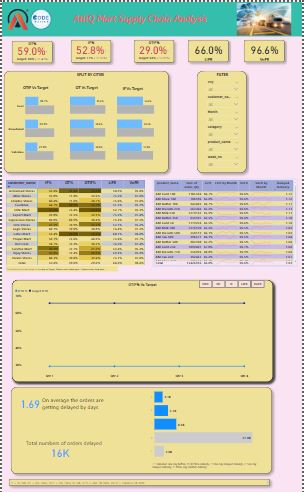

The dashboard page shown, as its layout file describes it:
{"tool":"powerbi","page":{"name":"Insight View","canvas":[1500,2500],"ordinal":1},"visuals":[{"type":"textbox","box":[47.1,1925.7,1304.3,434.3],"z":0},{"type":"textbox","box":[974.4,343,246.5,509.3],"z":1000},{"type":"textbox","box":[12.5,343.2,822.7,509.3],"z":2000},{"type":"textbox","box":[0,0,1500,172.2],"z":3000},{"type":"image","box":[17.5,15.5,119.6,142.3],"z":4000},{"type":"image","box":[137.1,15.5,119.6,142.3],"z":5000},{"type":"image","box":[1155.7,0,310.3,172.2],"z":6000},{"type":"textbox","box":[351.5,51.5,697.9,70.1],"z":7000},{"type":"kpi","title":"OT%","fields":{"Indicator":["A Measures Table.OT%"],"TrendLine":["fact_order_lines.customer_id"],"Goal":["A Measures Table.Target On Time"]},"box":[48,194,202,110],"z":8000},{"type":"kpi","title":"IF%","fields":{"TrendLine":["fact_order_lines.customer_id"],"Indicator":["A Measures Table.IF%"],"Goal":["A Measures Table.Target In Full"]},"box":[346,190,200,112],"z":9000},{"type":"kpi","title":"OTIF% ","fields":{"TrendLine":["fact_order_lines.customer_id"],"Indicator":["A Measures Table.OTIF%"],"Goal":["A Measures Table.Target OTIF"]},"box":[658,192,200,112],"z":10000},{"type":"card","fields":{"Values":["A Measures Table.Line Fill Rate"]},"box":[930,192,202,110],"z":11000},{"type":"card","fields":{"Values":["A Measures Table.Volume Fill Rate sum"]},"box":[1208,192,202,110],"z":12000},{"type":"clusteredBarChart","title":"OTIF% Vs Target OTIF","fields":{"Category":["dim_customers.city"],"Y":["A Measures Table.OTIF%","A Measures Table.Target OTIF"]},"box":[25.9,414.3,283.5,429.9],"z":13000},{"type":"clusteredBarChart","title":"OT% Vs Target OT","fields":{"Category":["dim_customers.city"],"Y":["A Measures Table.OT%","A Measures Table.Target On Time"]},"box":[333.1,459.7,226.8,339.2],"z":14000},{"type":"clusteredBarChart","title":"IF% Vs Target IF","fields":{"Category":["dim_customers.city"],"Y":["A Measures Table.IF%","A Measures Table.Target In Full"]},"box":[572.3,459.7,229.9,339.2],"z":15000},{"type":"textbox","box":[133.1,343.2,613.4,37.1],"z":16000},{"type":"textbox","box":[65.1,412.3,206.2,37.1],"z":17000},{"type":"textbox","box":[320.7,412.3,206.2,37.1],"z":18000},{"type":"textbox","box":[551.7,414.3,206.2,37.1],"z":19000},{"type":"slicer","fields":{"Values":["dim_customers.customer_name"]},"box":[1012.8,459.3,180.2,75.6],"z":20000},{"type":"slicer","fields":{"Values":["dim_customers.city"]},"box":[1012.8,384.9,179.1,74.4],"z":21000},{"type":"slicer","fields":{"Values":["dim_date.Month"]},"box":[1012.8,534.9,179.1,74.4],"z":22000},{"type":"slicer","fields":{"Values":["dim_products.category"]},"box":[1012.8,609.3,179.1,74.4],"z":23000},{"type":"slicer","fields":{"Values":["dim_products.product_name"]},"box":[1012.8,683.7,179.1,74.4],"z":24000},{"type":"slicer","fields":{"Values":["dim_date.week_no"]},"box":[1012.8,758.1,179.1,74.4],"z":25000},{"type":"textbox","box":[1011.6,343,181.4,50],"z":26000},{"type":"pivotTable","fields":{"Rows":["dim_customers.customer_name"],"Values":["A Measures Table.IF%","A Measures Table.OT%","A Measures Table.OTIF%","A Measures Table.Line Fill Rate","A Measures Table.Volume Fill Rate"]},"box":[12.8,883.7,710.5,437.2],"z":27000},{"type":"tableEx","fields":{"Values":["dim_products.product_name","Sum(fact_order_lines.order_qty)","A Measures Table.LiFR","SparklineData(A Measures Table.LiFR_[dim_date.Month])","A Measures Table.VoFR","SparklineData(A Measures Table.VoFR_[dim_date.Month])","A Measures Table.Delayed Delivery"]},"box":[757,883.7,722.1,437.2],"z":28000},{"type":"lineChart","fields":{"Category":["dim_date.date.Variation.Date Hierarchy.Quarter"],"Y":["A Measures Table.VoFR"]},"box":[47.5,1388.8,1303.8,508.8],"z":29000},{"type":"lineChart","fields":{"Category":["dim_date.date.Variation.Date Hierarchy.Quarter"],"Y":["A Measures Table.LiFR"]},"box":[47.5,1388.8,1303.8,508.8],"z":30000},{"type":"lineChart","title":"IF% Vs Target","fields":{"Category":["dim_date.date.Variation.Date Hierarchy.Quarter"],"Y":["A Measures Table.IF%","A Measures Table.Target In Full"]},"box":[47.5,1388.8,1303.8,508.8],"z":31000},{"type":"lineChart","title":"OT% Vs Target","fields":{"Category":["dim_date.date.Variation.Date Hierarchy.Quarter"],"Y":["A Measures Table.OT%","A Measures Table.Target On Time"]},"box":[47.5,1388.8,1303.8,508.8],"z":32000},{"type":"lineChart","title":"OTIF% Vs Target","fields":{"Category":["dim_date.date.Variation.Date Hierarchy.Quarter"],"Y":["A Measures Table.OTIF%","A Measures Table.Target OTIF"]},"box":[47.5,1388.8,1303.8,508.8],"z":33000},{"type":"actionButton","title":"VoFR","box":[1244.4,1387.8,66.7,38.9],"z":34000},{"type":"actionButton","title":"LiFR","box":[1180,1387.8,64.4,38.9],"z":35000},{"type":"actionButton","title":"IF","box":[1114.4,1387.8,65.6,38.9],"z":36000},{"type":"actionButton","title":"OT","box":[1048.9,1387.8,65.6,38.9],"z":37000},{"type":"actionButton","title":"OTIF","box":[983.3,1387.8,65.6,38.9],"z":38000},{"type":"clusteredBarChart","fields":{"Category":["fact_order_lines.DelayedDays"],"Y":["CountNonNull(fact_order_lines.order_id)"]},"box":[732.9,1934.3,558.6,351.4],"z":39000},{"type":"textbox","box":[112.9,2180,460,60],"z":40000},{"type":"textbox","box":[197.1,1965.7,404.3,85.7],"z":41000},{"type":"card","fields":{"Values":["A Measures Table.Delayed Delivery"]},"box":[78.6,1965.7,118.6,74.3],"z":42000},{"type":"card","fields":{"Values":["A Measures Table.Delayed Orders"]},"box":[227.1,2217.1,128.6,68.6],"z":43000},{"type":"textbox","box":[745.7,2297.1,541.4,51.4],"z":44000},{"type":"textbox","box":[35,2384,1304,34],"z":45000},{"type":"textbox","box":[18,1321,559,27],"z":45001}]}

Visuals, with their boxes in screenshot pixels (x1, y1, x2, y2), scaled from the page's 1500x2500 canvas onto the 304x492 screenshot:
textbox: select_region(10, 379, 274, 464)
textbox: select_region(197, 68, 247, 168)
textbox: select_region(3, 68, 169, 168)
textbox: select_region(0, 0, 303, 34)
image: select_region(4, 3, 28, 31)
image: select_region(28, 3, 52, 31)
image: select_region(234, 0, 297, 34)
textbox: select_region(71, 10, 213, 24)
"OT%" kpi: select_region(10, 38, 51, 60)
"IF%" kpi: select_region(70, 37, 111, 59)
"OTIF% " kpi: select_region(133, 38, 174, 60)
card - A Measures Table.Line Fill Rate: select_region(188, 38, 229, 59)
card - A Measures Table.Volume Fill Rate sum: select_region(245, 38, 286, 59)
"OTIF% Vs Target OTIF" clusteredBarChart: select_region(5, 82, 63, 166)
"OT% Vs Target OT" clusteredBarChart: select_region(68, 90, 113, 157)
"IF% Vs Target IF" clusteredBarChart: select_region(116, 90, 163, 157)
textbox: select_region(27, 68, 151, 75)
textbox: select_region(13, 81, 55, 88)
textbox: select_region(65, 81, 107, 88)
textbox: select_region(112, 82, 154, 89)
slicer - dim_customers.customer_name: select_region(205, 90, 242, 105)
slicer - dim_customers.city: select_region(205, 76, 242, 90)
slicer - dim_date.Month: select_region(205, 105, 242, 120)
slicer - dim_products.category: select_region(205, 120, 242, 135)
slicer - dim_products.product_name: select_region(205, 135, 242, 149)
slicer - dim_date.week_no: select_region(205, 149, 242, 164)
textbox: select_region(205, 68, 242, 77)
pivotTable - dim_customers.customer_name x A Measures Table.IF%: select_region(3, 174, 147, 260)
tableEx - dim_products.product_name x Sum(fact_order_lines.order_qty): select_region(153, 174, 300, 260)
lineChart - dim_date.date.Variation.Date Hierarchy.Quarter x A Measures Table.VoFR: select_region(10, 273, 274, 373)
lineChart - dim_date.date.Variation.Date Hierarchy.Quarter x A Measures Table.LiFR: select_region(10, 273, 274, 373)
"IF% Vs Target" lineChart: select_region(10, 273, 274, 373)
"OT% Vs Target" lineChart: select_region(10, 273, 274, 373)
"OTIF% Vs Target" lineChart: select_region(10, 273, 274, 373)
"VoFR" actionButton: select_region(252, 273, 266, 281)
"LiFR" actionButton: select_region(239, 273, 252, 281)
"IF" actionButton: select_region(226, 273, 239, 281)
"OT" actionButton: select_region(213, 273, 226, 281)
"OTIF" actionButton: select_region(199, 273, 213, 281)
clusteredBarChart - fact_order_lines.DelayedDays x CountNonNull(fact_order_lines.order_id): select_region(149, 381, 262, 450)
textbox: select_region(23, 429, 116, 441)
textbox: select_region(40, 387, 122, 404)
card - A Measures Table.Delayed Delivery: select_region(16, 387, 40, 401)
card - A Measures Table.Delayed Orders: select_region(46, 436, 72, 450)
textbox: select_region(151, 452, 261, 462)
textbox: select_region(7, 469, 271, 476)
textbox: select_region(4, 260, 117, 265)
